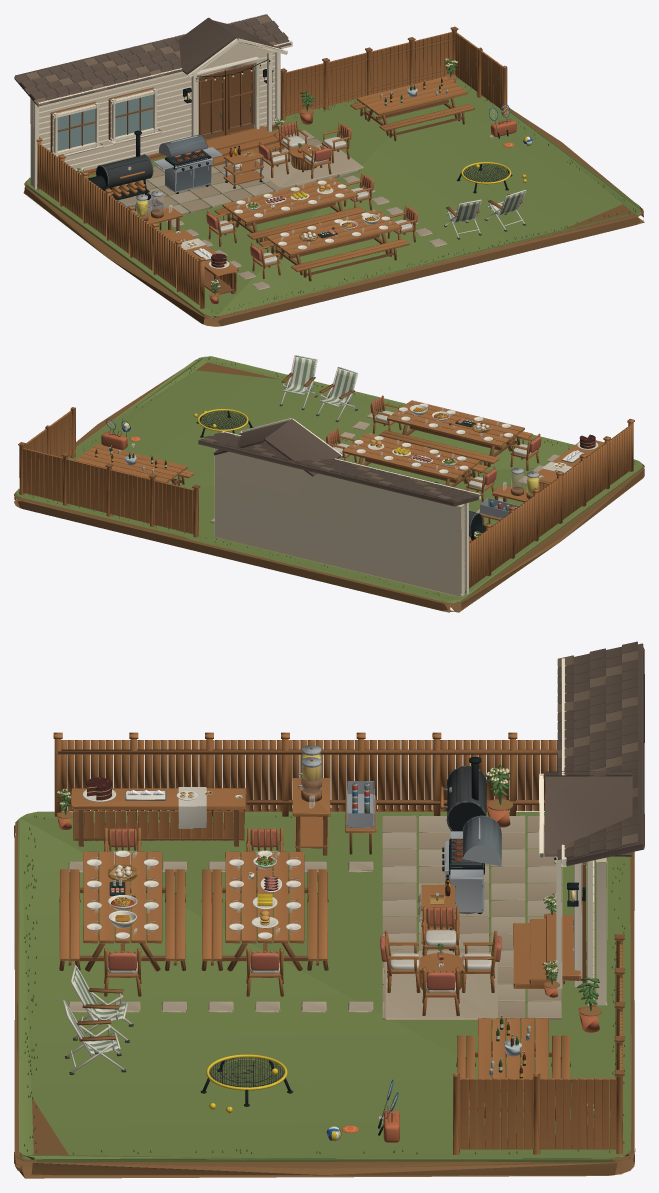
The model's file is sams-garden.glb.
The picture shows the model from 3 angles, top to bottom: view 1: azimuth 30°, elevation 25°; view 2: azimuth 150°, elevation 25°; view 3: azimuth 270°, elevation 25°; orthographic projection. The views are drawn at different scales.
Parts seen in each view (by area): view 1: Sam's garden; view 2: Sam's garden; view 3: Sam's garden.
Part boxes in pixels (box(x1,y1,x2,y2)): Sam's garden: box(14, 14, 644, 326); Sam's garden: box(14, 355, 644, 612); Sam's garden: box(14, 641, 644, 1178).
Bounding box in the file's own units: 16.5 × 4.46 × 12.19.
